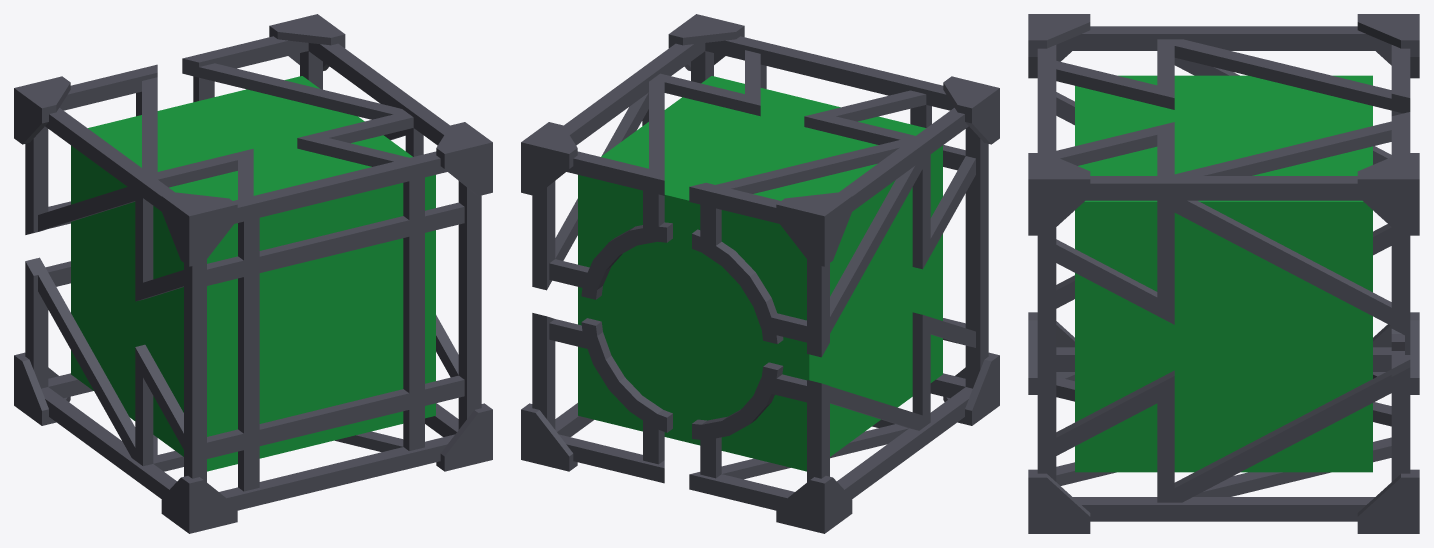
The model's file is green-source.glb.
3 views of the same model, side by side, from view 1: azimuth 30°, elevation 25°; view 2: azimuth 150°, elevation 25°; view 3: azimuth 270°, elevation 25° (orthographic). The views are drawn at different scales.
Parts seen in each view (by area): view 1: laser box; view 2: laser box; view 3: laser box.
Part boxes in pixels (<box>): laser box: <box>14,14,492,533</box>; laser box: <box>521,14,999,533</box>; laser box: <box>1028,14,1419,533</box>.
Size of the model in its own units: 1 by 1 by 1.
